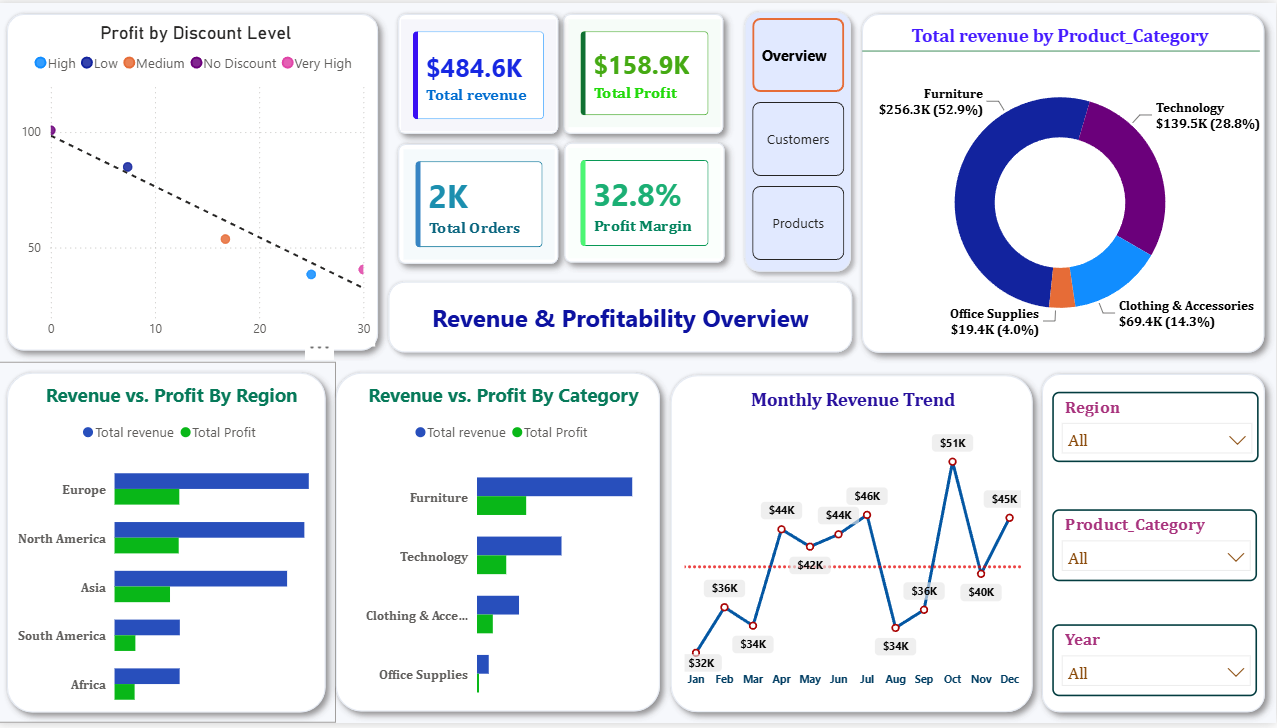

The page's visual inventory and layout, read from the dashboard file:
{"tool":"powerbi","page":{"name":"Overview ","canvas":[1280,720],"ordinal":0},"visuals":[{"type":"shape","box":[0,0,393.1,358.4],"z":0},{"type":"shape","box":[855.3,0,424.3,360.7],"z":1000},{"type":"shape","box":[1035.1,359.7,244.9,360.3],"z":2000},{"type":"shape","box":[390.8,129.5,182,141.8],"z":3000,"group":"g3"},{"type":"shape","box":[0,358.4,340.6,361.8],"z":3000},{"type":"shape","box":[328.3,359.3,346.2,360.7],"z":4000},{"type":"shape","box":[556.1,0,182,141.8],"z":4500,"group":"g5"},{"type":"donutChart","fields":{"Category":["E_Commerce_sales.Product_Category"],"Y":["All Measures.Total Sales"]},"box":[866.5,21.2,397.5,322.7],"z":5000},{"type":"shape","box":[663.3,360.7,384,359],"z":5000,"group":"g1"},{"type":"shape","box":[384.1,270.2,481.3,88.2],"z":6000},{"type":"lineChart","title":"Monthly Revenue Trend","fields":{"Category":["Date.Sort Manth"],"Y":["All Measures.Total Sales"]},"box":[682.8,385,346.4,308.9],"z":6000,"group":"g1"},{"type":"cardVisual","fields":{"Data":["All Measures.Total Profit"]},"box":[571.7,15.6,153,109.4],"z":7000,"group":"g5"},{"type":"slicer","fields":{"Values":["E_Commerce_sales.Region"]},"box":[1056.7,388.4,206.5,70.3],"z":7000},{"type":"cardVisual","fields":{"Data":["All Measures.Total Orders"]},"box":[406.4,146.2,151.9,110.5],"z":8000,"group":"g3"},{"type":"slicer","fields":{"Values":["Date.Year"]},"box":[1056.7,620.9,204.9,71.9],"z":8000},{"type":"shape","box":[390.8,0,182,141.8],"z":8250,"group":"g6"},{"type":"shape","box":[557.2,128.4,182,141.8],"z":8500,"group":"g4"},{"type":"slicer","fields":{"Values":["E_Commerce_sales.Product_Category"]},"box":[1056.7,506.2,204.9,71.9],"z":9000},{"type":"cardVisual","fields":{"Data":["All Measures.Total Sales"]},"box":[404.2,15.6,155.2,112.8],"z":10000,"group":"g6"},{"type":"clusteredBarChart","title":"Revenue vs. Profit By Category ","fields":{"Category":["E_Commerce_sales.Product_Category"],"Y":["All Measures.Total revenue","All Measures.Total Profit"]},"box":[340.6,378.5,322.7,337.2],"z":10000},{"type":"cardVisual","fields":{"Data":["All Measures.Profit Margin %"]},"box":[571.7,145.1,153,110.5],"z":11000,"group":"g4"},{"type":"clusteredBarChart","title":"Revenue vs. Profit By Region","fields":{"Category":["E_Commerce_sales.Region"],"Y":["All Measures.Total revenue","All Measures.Total Profit"]},"box":[19,378.5,312.7,339.5],"z":11000},{"type":"shape","box":[740,0,123.8,277.5],"z":11500},{"type":"scatterChart","title":"Profit By discount Level","fields":{"Series":["E_Commerce_sales.Discount Band"],"X":["All Measures.Avg Discount"],"Y":["All Measures.Avg Profit"]},"box":[20.1,19,359.6,324.9],"z":12000},{"type":"group","id":"g1","title":"Group 6","box":[663.3,360.7,383,359.6],"z":13000},{"type":"group","id":"g2","title":"Group 5","box":[390.8,0,348.4,271.3],"z":14000},{"type":"pageNavigator","box":[756.2,15,92.5,242.5],"z":16000},{"type":"group","id":"g3","title":"Group 1","box":[390.8,129.5,182,141.8],"z":19001,"group":"g2"},{"type":"group","id":"g4","title":"Group 2","box":[557.2,128.4,182,141.8],"z":19002,"group":"g2"},{"type":"group","id":"g5","title":"Group 3","box":[556.1,0,182,141.8],"z":19003,"group":"g2"},{"type":"group","id":"g6","title":"Group 4","box":[390.8,0,182,141.8],"z":19004,"group":"g2"}]}

Visuals, with their boxes in screenshot pixels (x1, y1, x2, y2), scaled from the page's 1280x720 canvas onto the 1277x728 screenshot:
shape: <bbox>0, 0, 392, 362</bbox>
shape: <bbox>853, 0, 1276, 365</bbox>
shape: <bbox>1033, 364, 1276, 727</bbox>
shape: <bbox>390, 131, 571, 274</bbox>
shape: <bbox>0, 362, 340, 727</bbox>
shape: <bbox>328, 363, 673, 727</bbox>
shape: <bbox>555, 0, 736, 143</bbox>
donutChart - E_Commerce_sales.Product_Category x All Measures.Total Sales: <bbox>864, 21, 1261, 348</bbox>
shape: <bbox>662, 365, 1045, 727</bbox>
shape: <bbox>383, 273, 863, 362</bbox>
"Monthly Revenue Trend" lineChart: <bbox>681, 389, 1027, 702</bbox>
cardVisual - All Measures.Total Profit: <bbox>570, 16, 723, 126</bbox>
slicer - E_Commerce_sales.Region: <bbox>1054, 393, 1260, 464</bbox>
cardVisual - All Measures.Total Orders: <bbox>405, 148, 557, 260</bbox>
slicer - Date.Year: <bbox>1054, 628, 1259, 700</bbox>
shape: <bbox>390, 0, 571, 143</bbox>
shape: <bbox>556, 130, 737, 273</bbox>
slicer - E_Commerce_sales.Product_Category: <bbox>1054, 512, 1259, 585</bbox>
cardVisual - All Measures.Total Sales: <bbox>403, 16, 558, 130</bbox>
"Revenue vs. Profit By Category " clusteredBarChart: <bbox>340, 383, 662, 724</bbox>
cardVisual - All Measures.Profit Margin %: <bbox>570, 147, 723, 258</bbox>
"Revenue vs. Profit By Region" clusteredBarChart: <bbox>19, 383, 331, 726</bbox>
shape: <bbox>738, 0, 862, 281</bbox>
"Profit By discount Level" scatterChart: <bbox>20, 19, 379, 348</bbox>
"Group 6" group: <bbox>662, 365, 1044, 727</bbox>
"Group 5" group: <bbox>390, 0, 737, 274</bbox>
pageNavigator: <bbox>754, 15, 847, 260</bbox>
"Group 1" group: <bbox>390, 131, 571, 274</bbox>
"Group 2" group: <bbox>556, 130, 737, 273</bbox>
"Group 3" group: <bbox>555, 0, 736, 143</bbox>
"Group 4" group: <bbox>390, 0, 571, 143</bbox>
